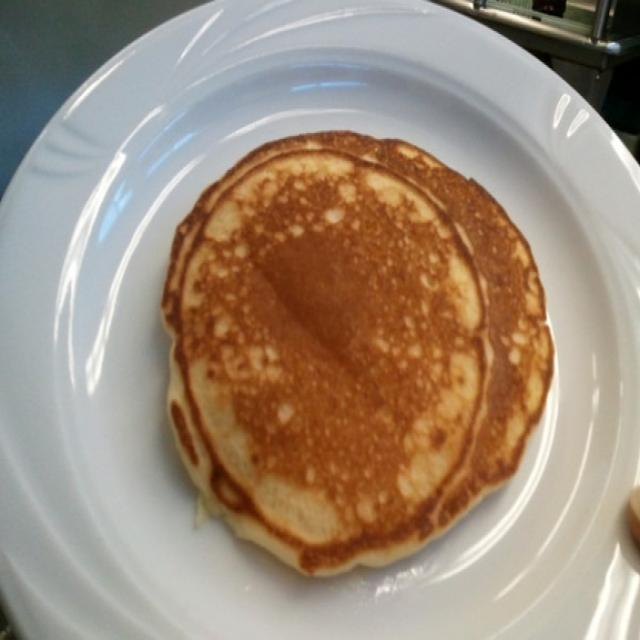蛋糕甜品: (40, 18, 599, 618)
